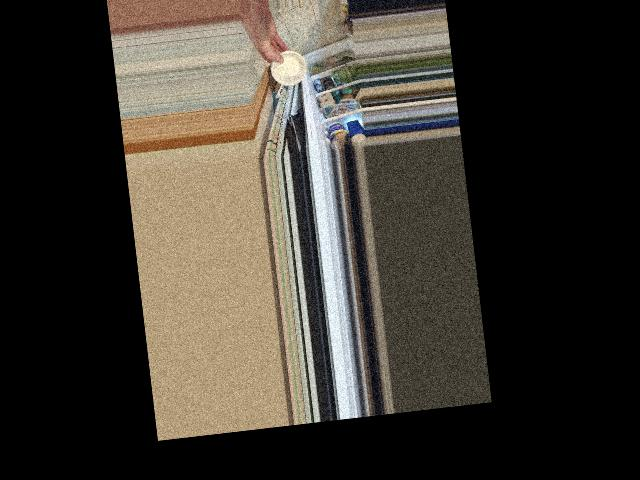cotage: (266, 47, 302, 85)
